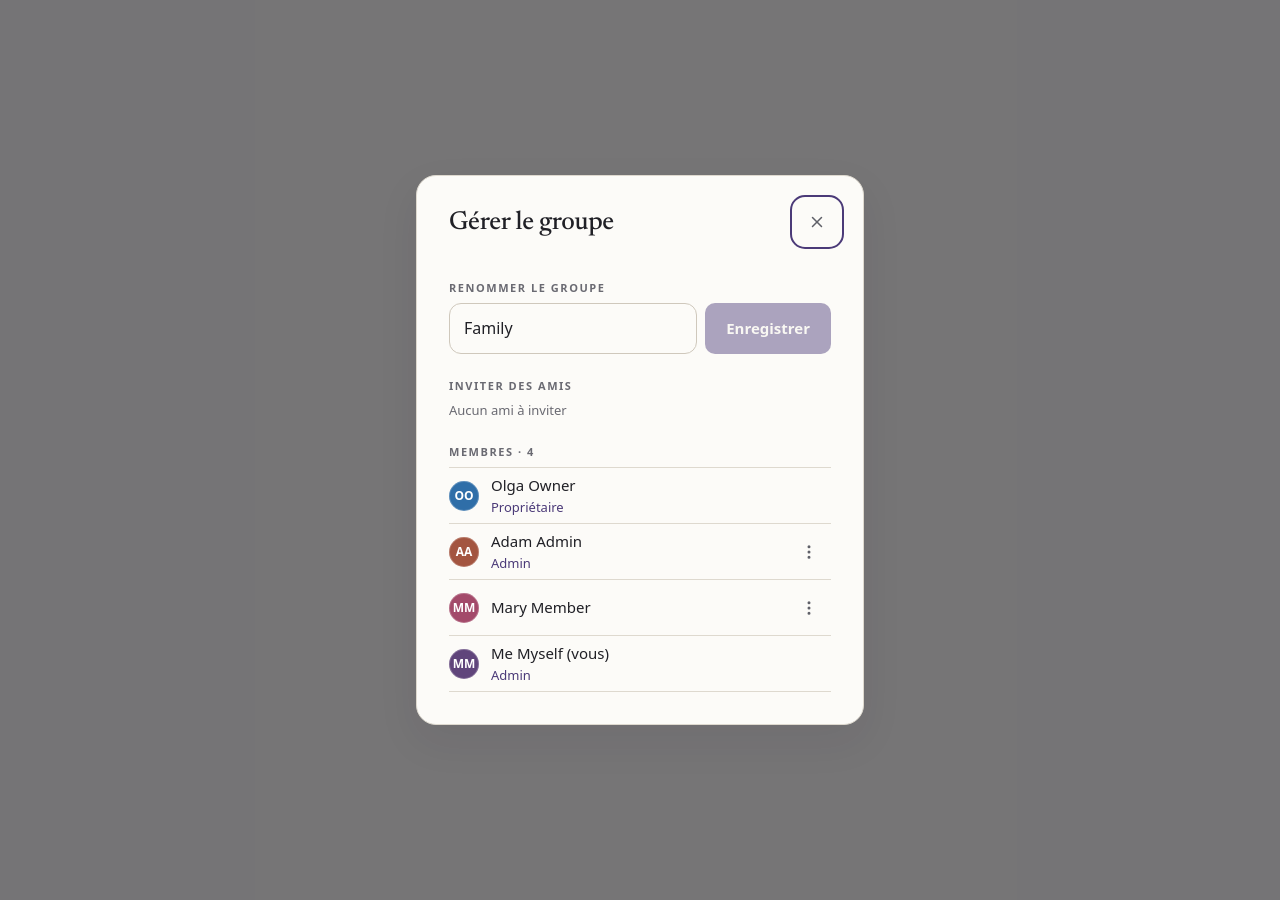
Scenario: GroupAdminModal — badges & action visibility › offers only "Make admin" in a regular member’s action menu
Expected: the text "Olga Owner" is shown, [491, 475, 576, 495]
What coordinates should you click on to do the following:
click the button named "Actions du membre" in the row of "Mary Member"
I would click on:
 (809, 608)
Its box is [787, 586, 831, 630].
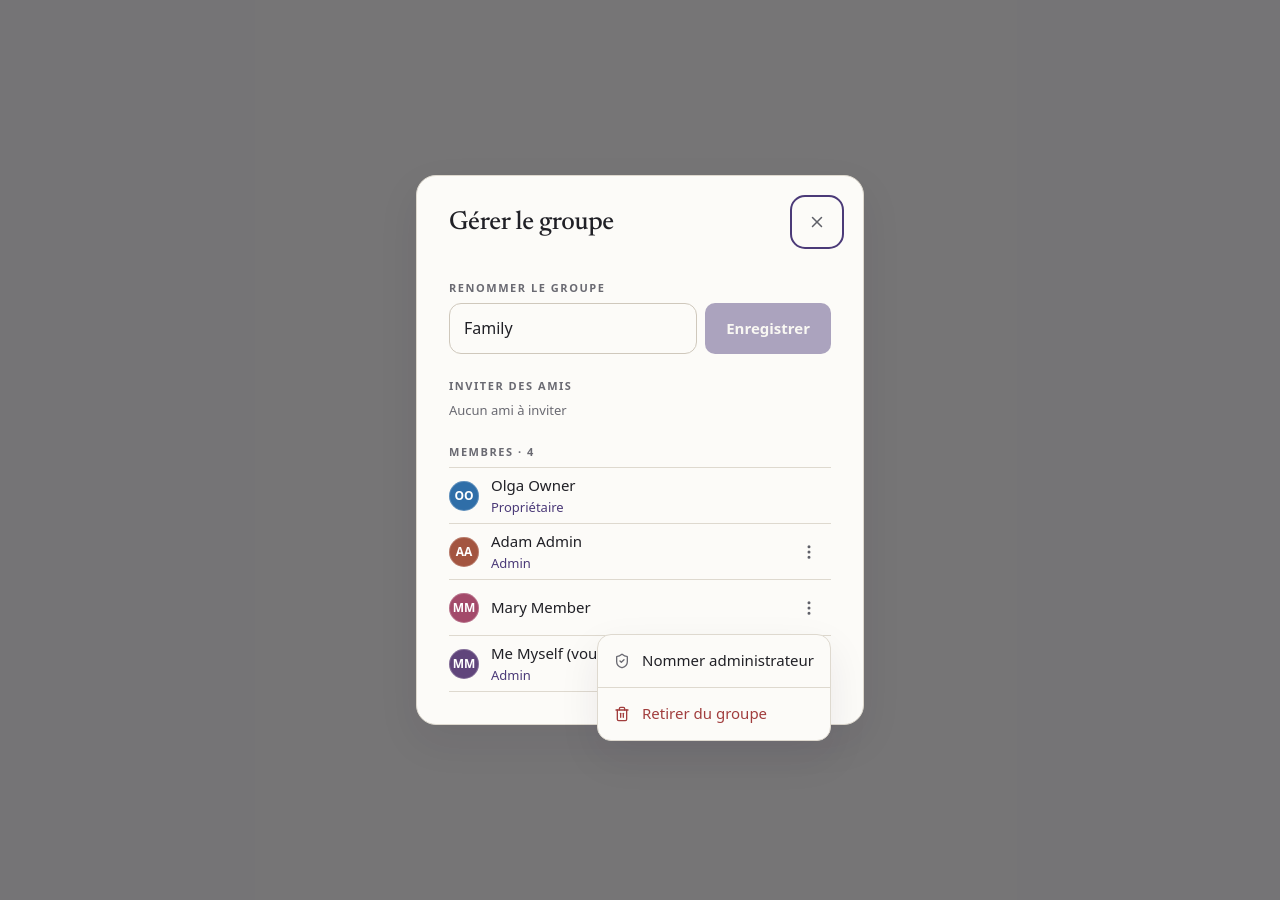
Expected: the menu item "Nommer administrateur" is shown, [598, 639, 830, 683]
